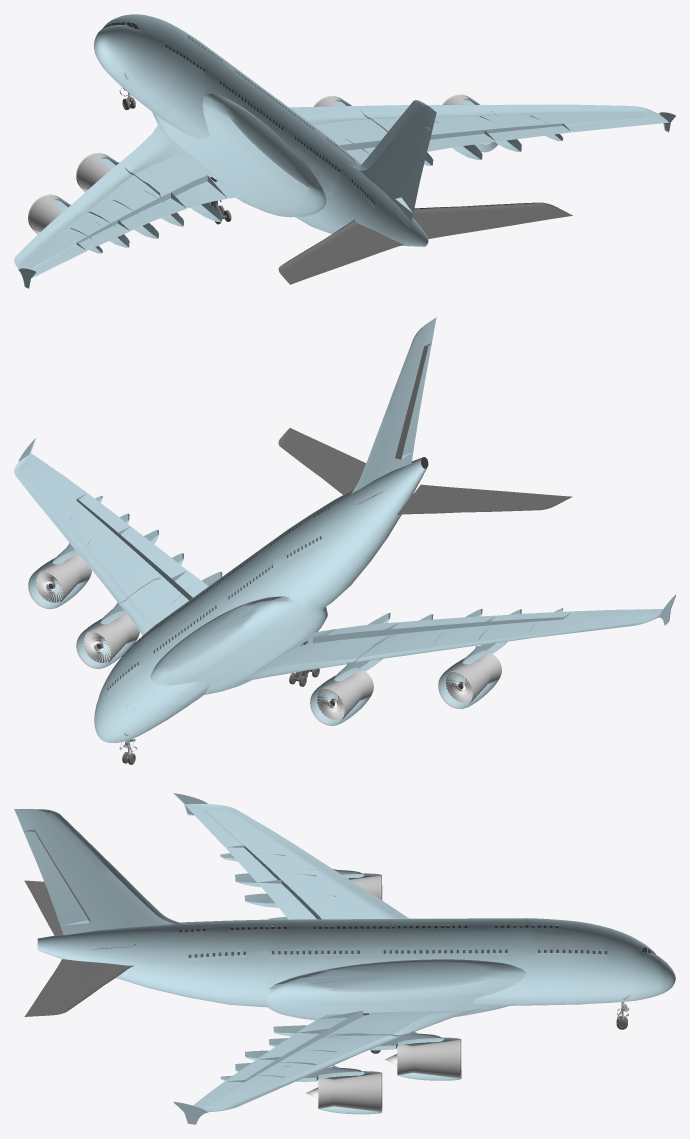
3 renders of one model, top to bottom at view 1: azimuth 30°, elevation 25°; view 2: azimuth 150°, elevation 25°; view 3: azimuth 270°, elevation 25°, orthographic.
Visible parts, largest first — view 1: chassis01, rudder01; view 2: chassis01, rudder01; view 3: chassis01, rudder01.
Part boxes in pixels (x1,y1,x2,y2): chassis01: (14,14,675,288); rudder01: (395,127,431,213); chassis01: (14,317,675,742); rudder01: (401,343,431,459); chassis01: (14,793,675,1124); rudder01: (23,831,89,925).
Bounding box in the file's own units: 6517 × 2172 × 5896.
